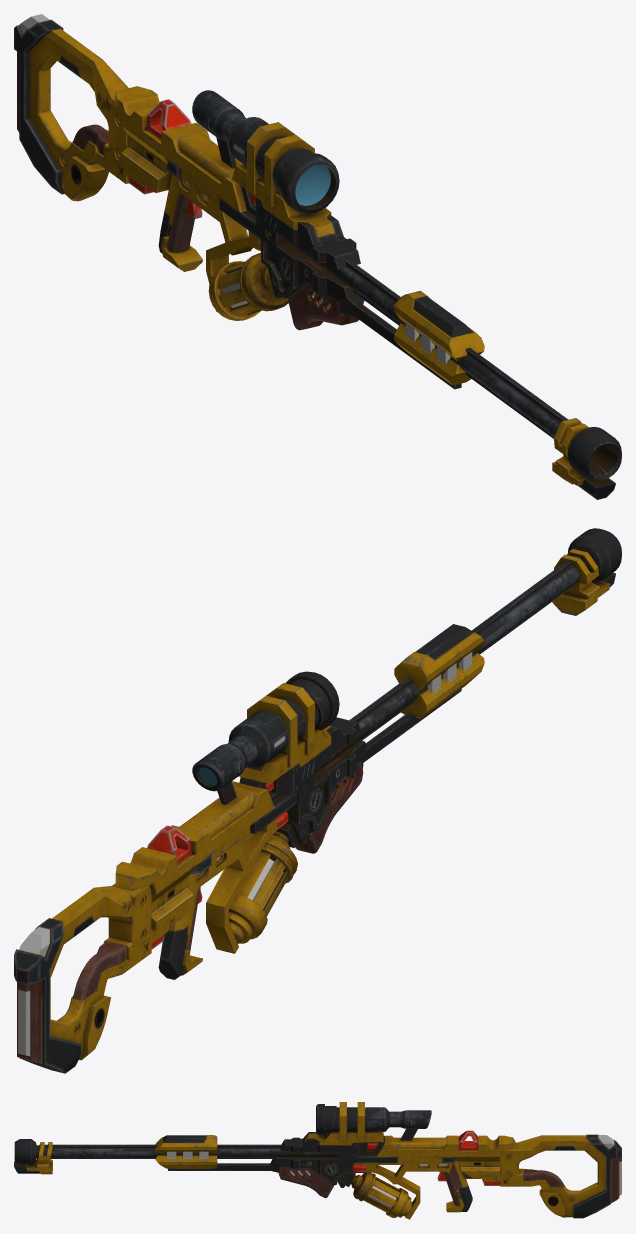
Rendered from Sniper_Bob.fbx.
The picture shows the model from 3 angles, top to bottom: view 1: azimuth 30°, elevation 25°; view 2: azimuth 150°, elevation 25°; view 3: azimuth 270°, elevation 25°; orthographic projection. The views are drawn at different scales.
Visible parts, largest first — view 1: GunMesh; view 2: GunMesh; view 3: GunMesh.
Boxes of the visible parts, left/top/right/bottom form: GunMesh: left=14, top=14, right=621, bottom=499; GunMesh: left=14, top=528, right=621, bottom=1073; GunMesh: left=14, top=1102, right=621, bottom=1219.
Bounding box in the file's own units: 0.0652 × 0.2562 × 1.25.
Materials: 1 (1 with a texture image).
